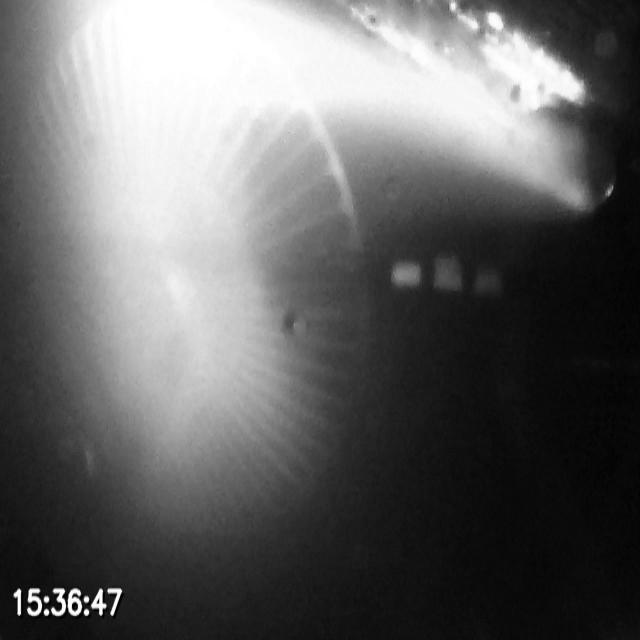white-dots: (389, 256, 504, 300)
